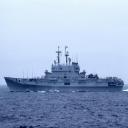Portanaves: (4, 43, 127, 95)
